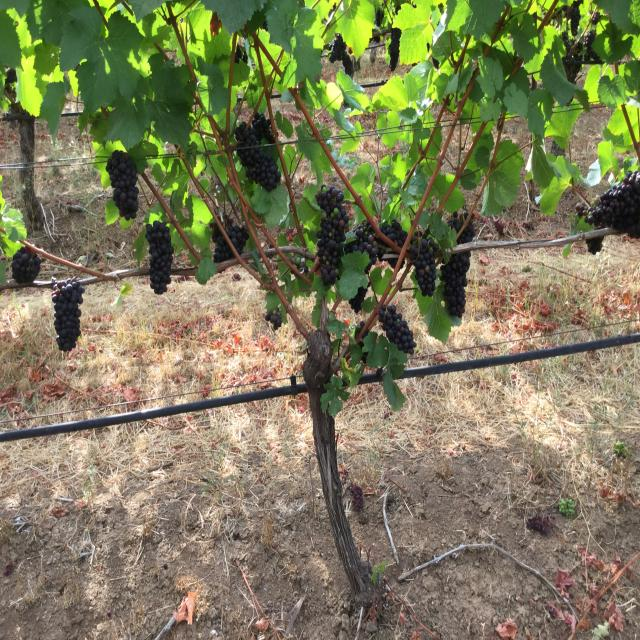grapes: (576, 172, 640, 238), (235, 113, 281, 192), (315, 187, 349, 287), (51, 280, 85, 352), (106, 150, 139, 220), (145, 220, 174, 295), (441, 253, 470, 318), (345, 220, 379, 273), (379, 305, 416, 353), (410, 238, 439, 297), (11, 247, 41, 283), (226, 218, 249, 253), (212, 227, 234, 263), (380, 220, 408, 247), (349, 287, 368, 313), (448, 212, 469, 233), (458, 220, 475, 243), (586, 237, 602, 255)
